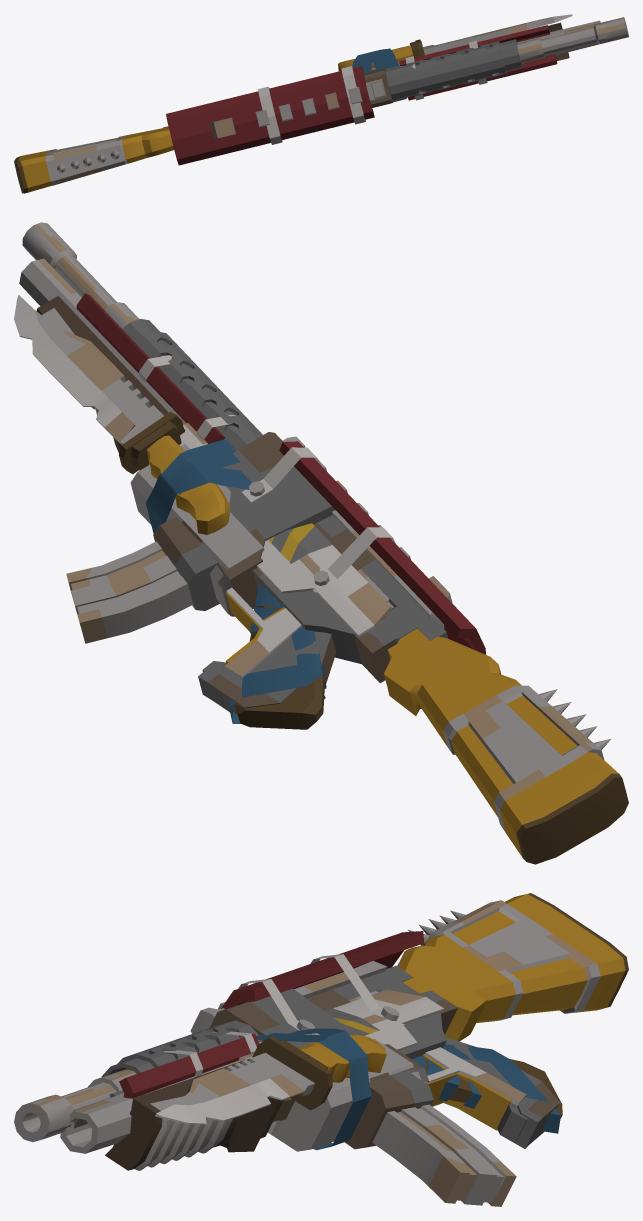
File: guns.glb
3 renders of one model, top to bottom at view 1: azimuth 30°, elevation 25°; view 2: azimuth 150°, elevation 25°; view 3: azimuth 270°, elevation 25°, orthographic. The views are drawn at different scales.
Parts seen in each view (by area): view 1: SMG, Rifle, Pistol, Shotgun; view 2: Rifle, SMG, Pistol, Shotgun; view 3: Rifle, SMG, Pistol, Shotgun.
Part boxes in pixels (x1,y1,x2,y2): SMG: (166, 38, 544, 165); Rifle: (14, 17, 628, 193); Pistol: (338, 14, 572, 102); Shotgun: (517, 20, 600, 60); Rifle: (22, 222, 628, 864); SMG: (66, 302, 485, 683); Pistol: (14, 295, 391, 714); Shotgun: (19, 258, 326, 729); Rifle: (14, 893, 628, 1142); SMG: (88, 931, 526, 1206); Pistol: (155, 990, 559, 1151); Shotgun: (60, 1044, 562, 1170).
Size of the model in its own units: 1.47 by 0.4902 by 0.8461.
1 material, 1 textured.
